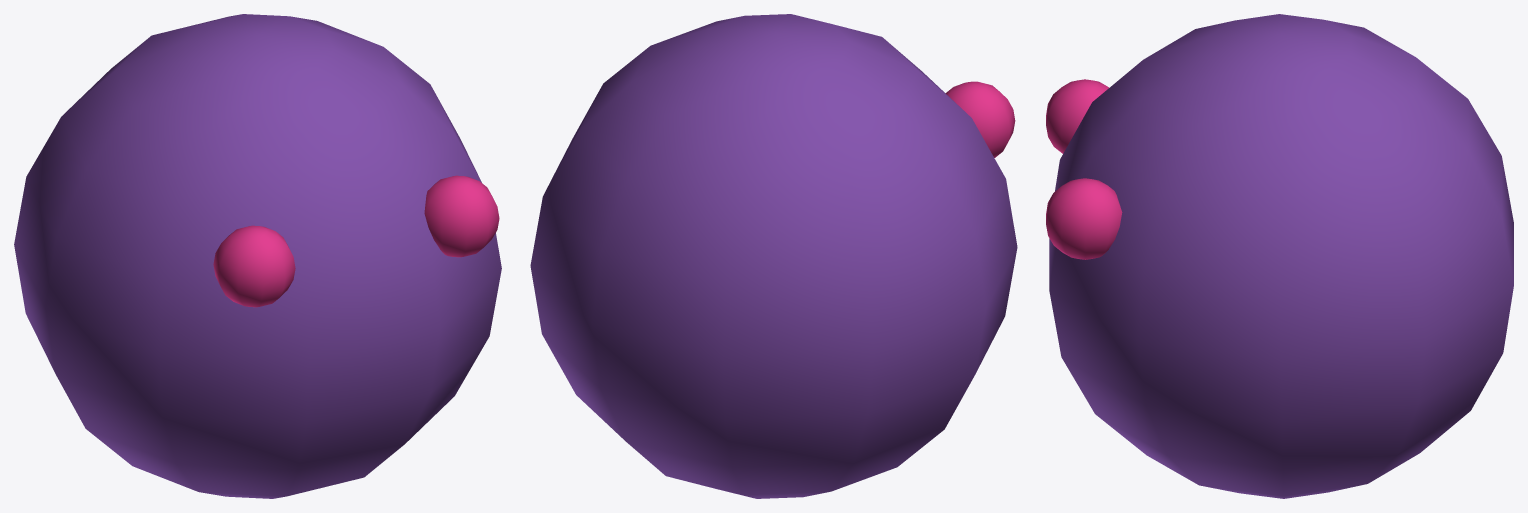
Rendered from ShadowMonsterAnim01.fbx.
The picture shows the model from 3 angles, left to right: view 1: azimuth 30°, elevation 25°; view 2: azimuth 150°, elevation 25°; view 3: azimuth 270°, elevation 25°; orthographic projection.
Visible parts, largest first — view 1: pSphere4; view 2: pSphere4; view 3: pSphere4.
Part boxes in pixels (box(x1,y1,x2,y2)): pSphere4: box(14, 14, 501, 498); pSphere4: box(530, 14, 1017, 498); pSphere4: box(1046, 14, 1513, 498).
Bounding box in the file's own units: 100 × 100 × 95.76.
